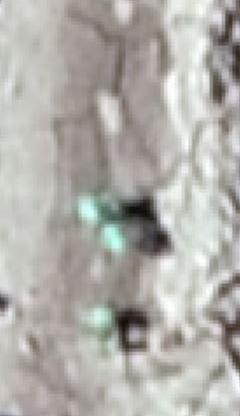cotton: (78, 196, 106, 221), (102, 225, 123, 249), (95, 307, 113, 328)
